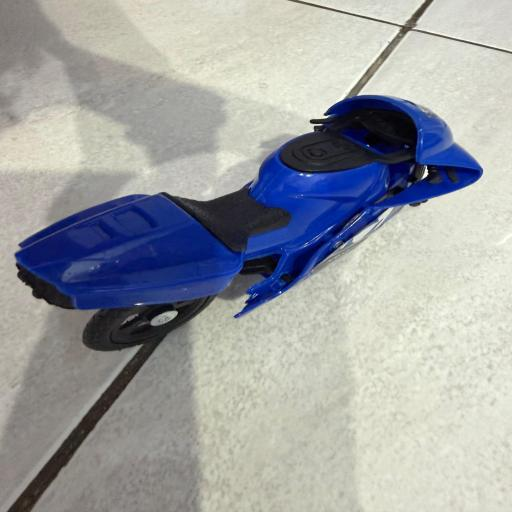motor-biru: (8, 88, 488, 356)
